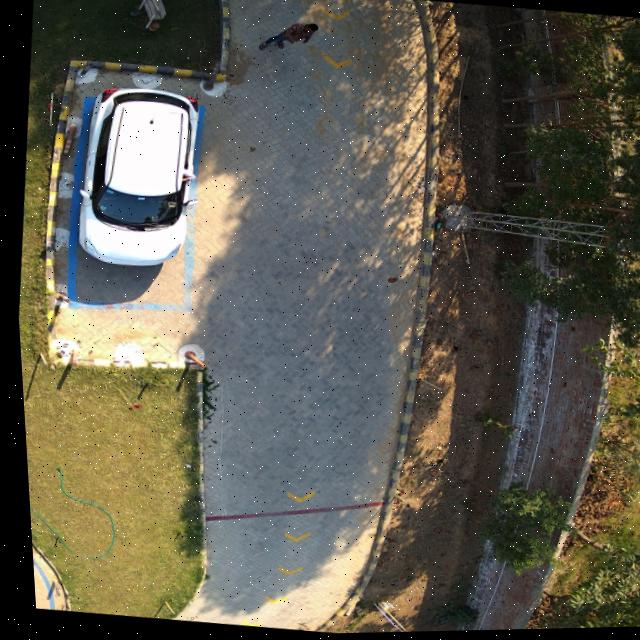car: (74, 88, 195, 266)
